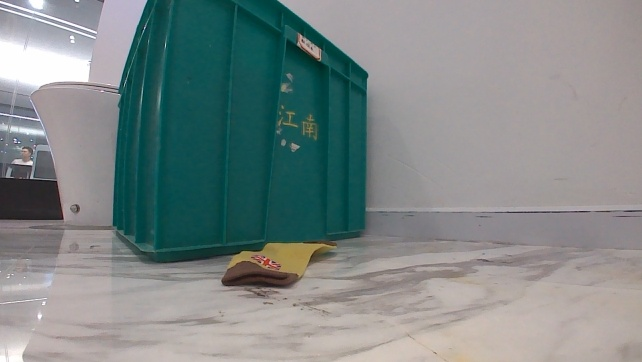socks: (220, 236, 338, 288)
toilet: (26, 78, 121, 228)
